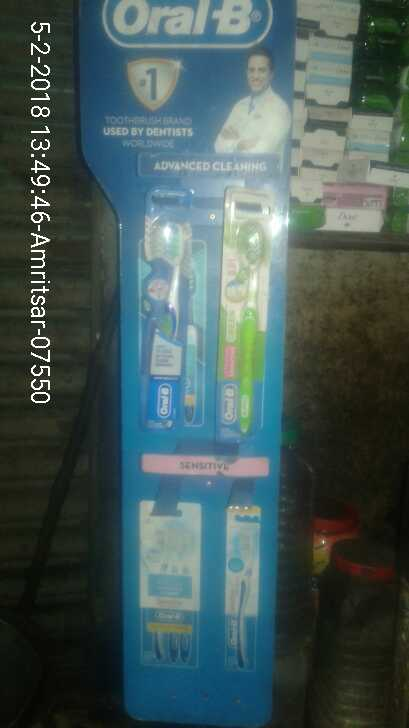oralb: (207, 207, 287, 447), (132, 206, 197, 424)
